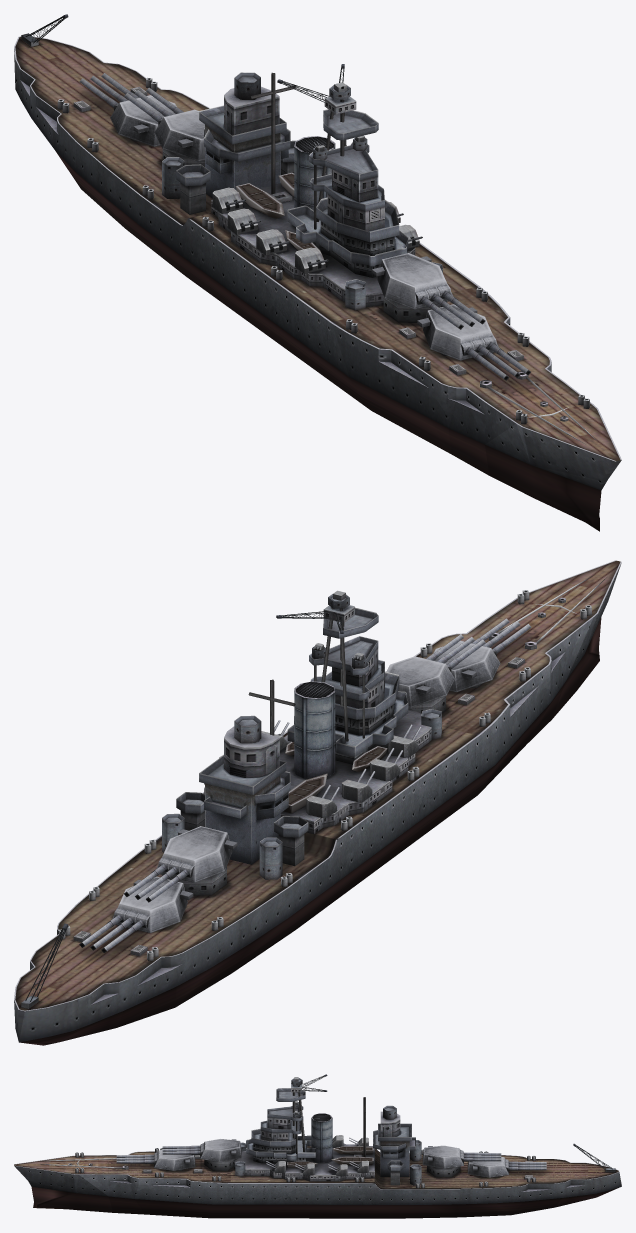
Rendered from Pennsylvania.fbx.
The picture shows the model from 3 angles, top to bottom: view 1: azimuth 30°, elevation 25°; view 2: azimuth 150°, elevation 25°; view 3: azimuth 270°, elevation 25°; orthographic projection. The views are drawn at different scales.
Visible parts, largest first — view 1: Body, M_Cannon03, M_Cannon04, M_Cannon01, M_Cannon02; view 2: Body, M_Cannon01, M_Cannon02, M_Cannon03, M_Cannon04, barrel02, barrel02_ncl1_1; view 3: Body, M_Cannon03, M_Cannon01, M_Cannon04, M_Cannon02, barrel02, barrel02_ncl1_2, barrel02_ncl1_1, barrel02_ncl1_3.
Boxes of the visible parts, x1=… form: Body: x1=14, y1=14, x2=621, y2=531; M_Cannon03: x1=371, y1=253, x2=452, y2=309; M_Cannon04: x1=417, y1=304, x2=498, y2=360; M_Cannon01: x1=154, y1=109, x2=204, y2=161; M_Cannon02: x1=110, y1=95, x2=176, y2=146; Body: x1=14, y1=560, x2=621, y2=1045; M_Cannon01: x1=156, y1=826, x2=237, y2=882; M_Cannon02: x1=112, y1=876, x2=193, y2=933; M_Cannon03: x1=386, y1=656, x2=454, y2=707; M_Cannon04: x1=433, y1=640, x2=500, y2=692; barrel02: x1=124, y1=871, x2=179, y2=902; barrel02_ncl1_1: x1=79, y1=921, x2=135, y2=952; Body: x1=14, y1=1074, x2=621, y2=1218; M_Cannon03: x1=200, y1=1139, x2=241, y2=1161; M_Cannon01: x1=422, y1=1145, x2=463, y2=1168; M_Cannon04: x1=154, y1=1150, x2=195, y2=1170; M_Cannon02: x1=467, y1=1157, x2=508, y2=1177; barrel02: x1=472, y1=1152, x2=501, y2=1161; barrel02_ncl1_2: x1=162, y1=1146, x2=191, y2=1154; barrel02_ncl1_1: x1=518, y1=1162, x2=546, y2=1170; barrel02_ncl1_3: x1=116, y1=1155, x2=144, y2=1163.
Size of the model in its own units: 26.49 by 44.48 by 184.
1 material, 1 textured.
